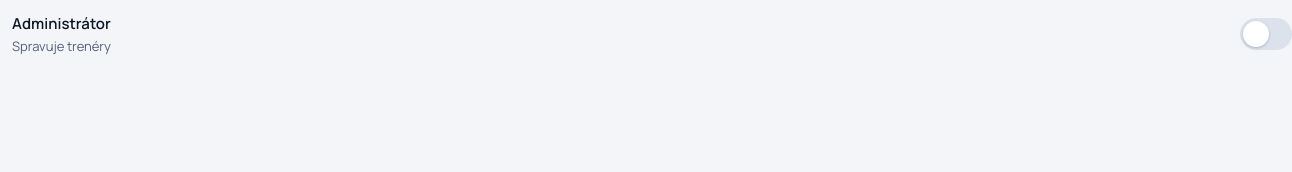
Test case: Switch, to the letter of §6.24 (AC-291) › is a real control the whole row toggles
The image size is (1292, 172).
expect the switch labelled "Administrátor Spravuje trenéry" is not checked: met, box x1=12 y1=12 x2=1291 y2=56
Step 1. Click the text "Administrátor" → x=61, y=24, box x1=12 y1=13 x2=111 y2=35
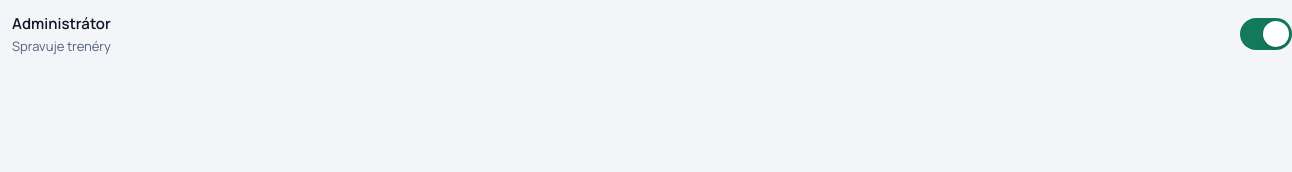
expect the switch labelled "Administrátor Spravuje trenéry" is checked: met, box x1=12 y1=12 x2=1291 y2=56
